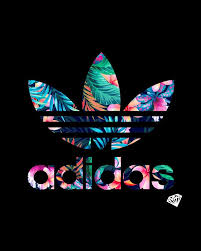adidas: (26, 51, 176, 191)
